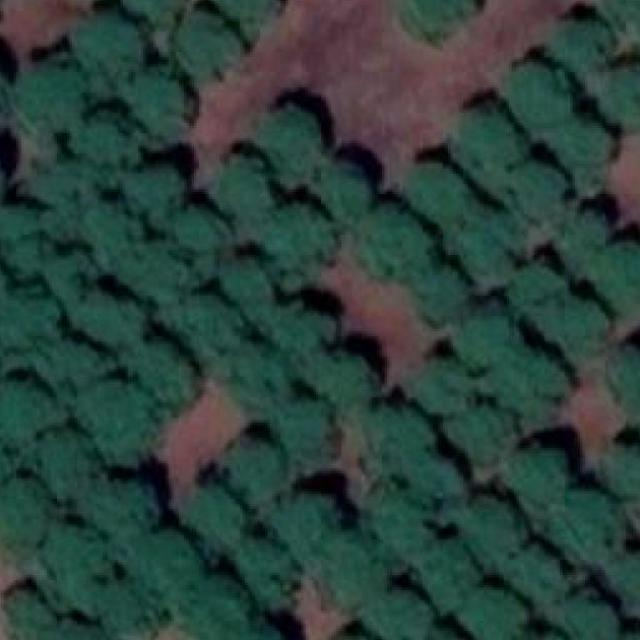Tree: (552, 488, 628, 562), (80, 15, 148, 89), (494, 346, 565, 416), (363, 202, 432, 273), (72, 108, 141, 178), (92, 382, 158, 451), (267, 204, 328, 275), (130, 67, 191, 138), (135, 337, 199, 402), (34, 163, 92, 234), (511, 62, 575, 126), (460, 110, 524, 174), (18, 65, 82, 129), (54, 532, 113, 600), (455, 204, 519, 265), (91, 482, 156, 542), (140, 532, 199, 598), (260, 108, 319, 174), (187, 577, 248, 640), (321, 540, 380, 604), (216, 153, 272, 220), (514, 546, 575, 606), (181, 293, 242, 352), (230, 344, 286, 408), (408, 162, 467, 222), (125, 162, 184, 222), (509, 450, 568, 509), (368, 406, 422, 470), (282, 402, 334, 468), (422, 546, 478, 606), (176, 204, 232, 263), (412, 359, 472, 414), (470, 497, 524, 558), (552, 300, 610, 356), (242, 540, 298, 598), (0, 482, 45, 552), (230, 441, 288, 495), (183, 486, 237, 544), (39, 436, 90, 497), (133, 243, 184, 304), (466, 587, 524, 640), (556, 209, 608, 268), (552, 19, 608, 73), (457, 309, 511, 365), (84, 294, 140, 348), (46, 339, 100, 395), (0, 380, 54, 436), (104, 582, 156, 640), (595, 238, 640, 304), (560, 118, 610, 177), (0, 207, 42, 276), (460, 406, 511, 462), (184, 14, 235, 70), (374, 592, 433, 640), (325, 354, 379, 406), (1, 585, 52, 640), (420, 260, 470, 316), (516, 163, 565, 220), (280, 304, 330, 359), (288, 492, 336, 548), (414, 460, 468, 509), (6, 294, 55, 348), (600, 62, 640, 126), (511, 262, 562, 311), (379, 488, 423, 544), (323, 166, 369, 214), (605, 443, 640, 504), (49, 252, 92, 301), (220, 0, 280, 34), (93, 209, 133, 260), (567, 595, 612, 640), (227, 260, 270, 306), (611, 344, 640, 410), (402, 0, 466, 29), (614, 549, 640, 610), (128, 0, 182, 23), (46, 622, 110, 640), (608, 0, 640, 31)
